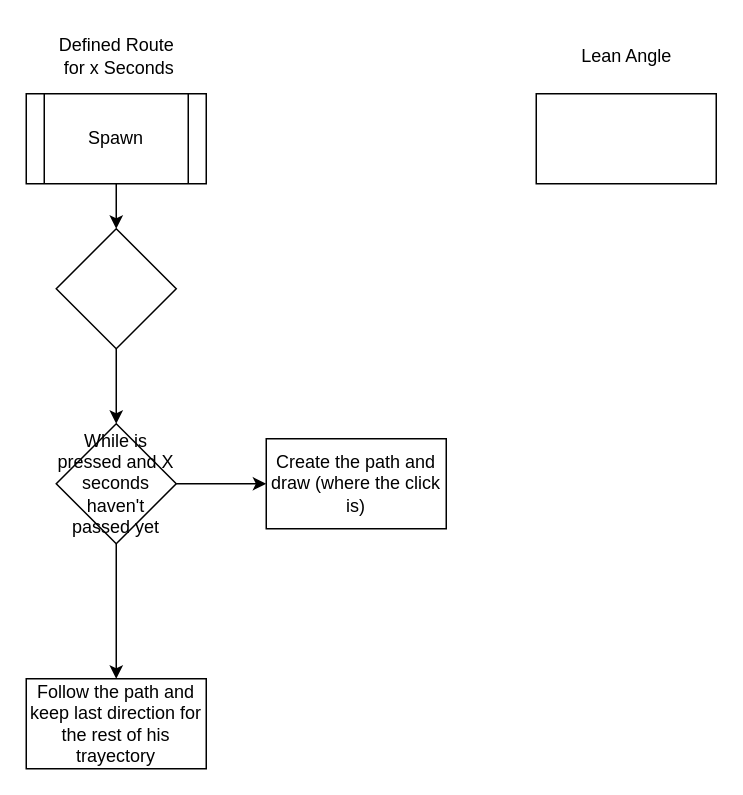
The diagram is 743 pixels wide and 795 high, and some of its shapes have lost their labels. The shapes that lost their labels are listed below. From the top down, each one's box as (x1, y1, x2, y2) in pixels, then its label:
(535, 92, 716, 184): Every frame lean toward vel.x
(55, 227, 176, 349): player Click on it
